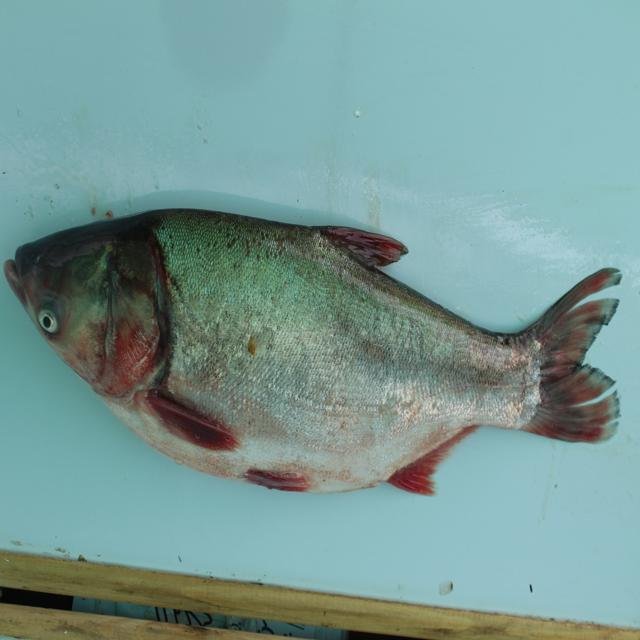SilverCarp: (11, 227, 635, 510)
